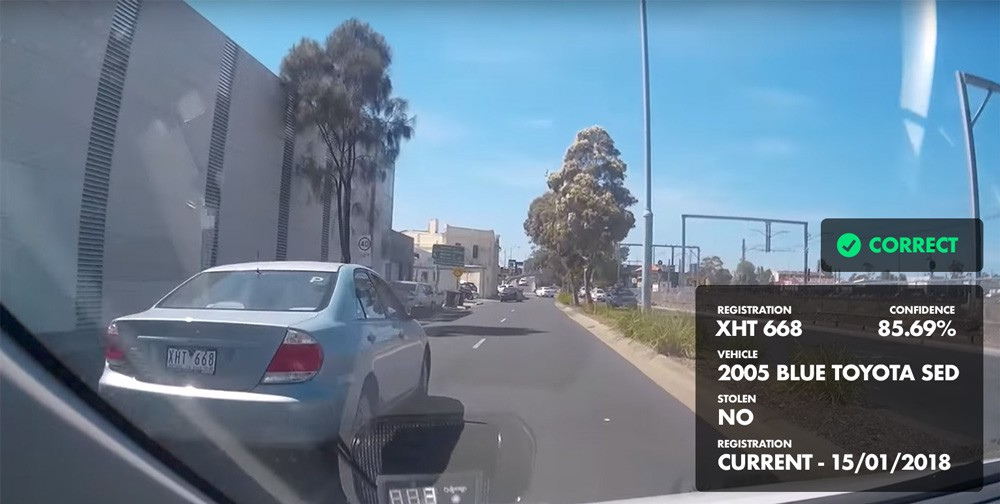license plate: (163, 344, 220, 379)
